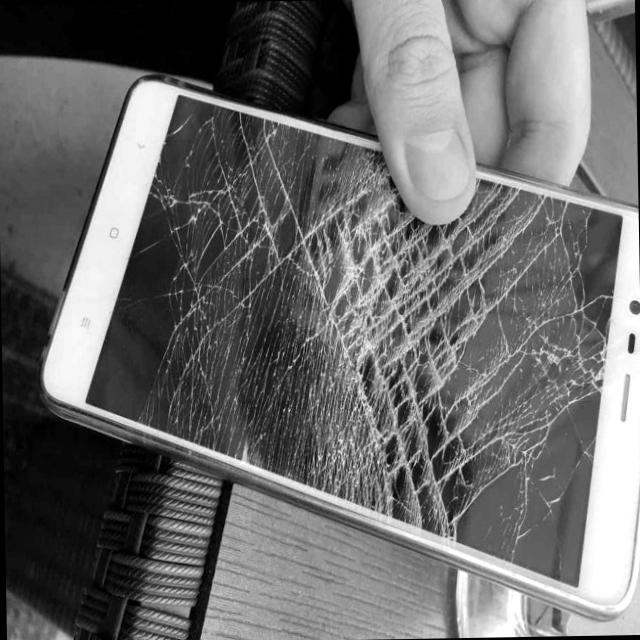Crack: (62, 50, 394, 547), (365, 64, 638, 612)
